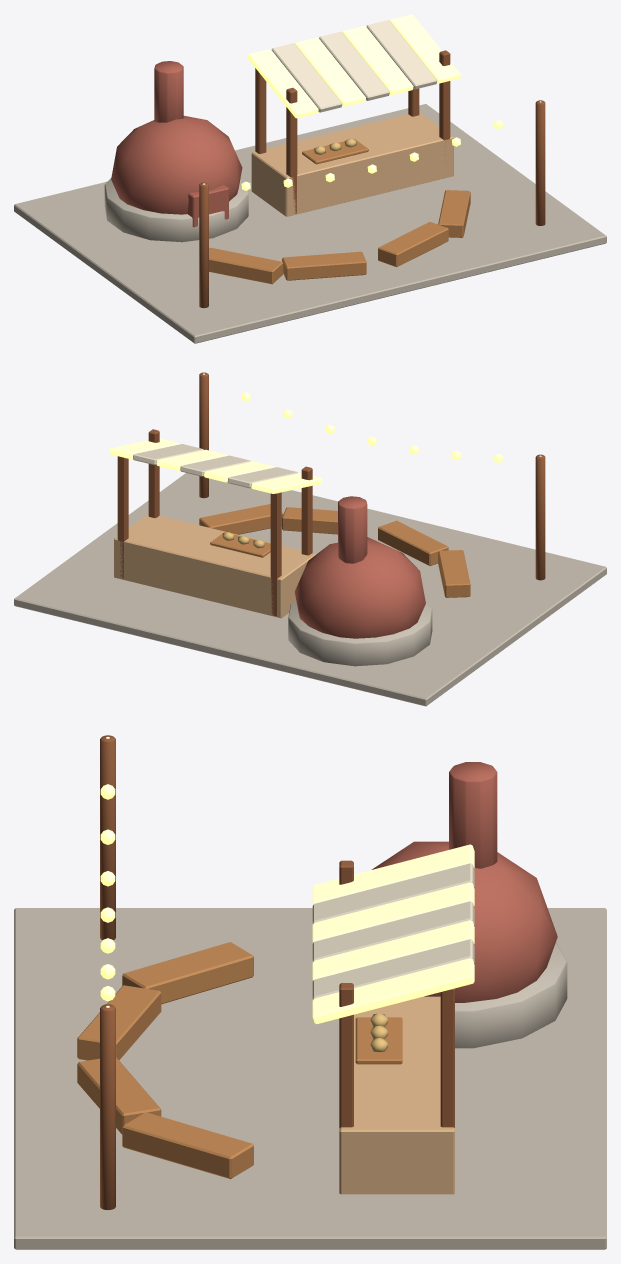
The picture shows the model from 3 angles, top to bottom: view 1: azimuth 30°, elevation 25°; view 2: azimuth 150°, elevation 25°; view 3: azimuth 270°, elevation 25°; orthographic projection. The views are drawn at different scales.
Visible parts, largest first — view 1: limestone, Stall_Counter, terracotta, amber_glow, warm_cedar, toasted_wood, ivory_trim; view 2: limestone, terracotta, Stall_Counter, toasted_wood, warm_cedar, amber_glow, ivory_trim; view 3: limestone, warm_cedar, Stall_Counter, terracotta, amber_glow, toasted_wood, ivory_trim.
Boxes of the visible parts, <box> form: limestone: <box>14,104,606,343</box>; Stall_Counter: <box>251,112,453,216</box>; terracotta: <box>111,61,242,227</box>; amber_glow: <box>203,14,541,190</box>; warm_cedar: <box>209,139,470,284</box>; toasted_wood: <box>199,50,545,308</box>; ivory_trim: <box>271,20,437,112</box>; limestone: <box>14,473,606,706</box>; terracotta: <box>294,496,425,638</box>; Stall_Counter: <box>114,513,315,618</box>; toasted_wood: <box>117,372,545,616</box>; warm_cedar: <box>199,504,470,597</box>; amber_glow: <box>109,373,541,493</box>; ivory_trim: <box>133,444,298,488</box>; limestone: <box>14,908,606,1249</box>; warm_cedar: <box>77,942,402,1178</box>; Stall_Counter: <box>339,996,454,1194</box>; terracotta: <box>371,762,557,1002</box>; amber_glow: <box>100,737,474,1023</box>; toasted_wood: <box>100,735,454,1209</box>; ivory_trim: <box>312,863,474,999</box>.
Size of the model in its own units: 10.8 by 3.87 by 8.2.
